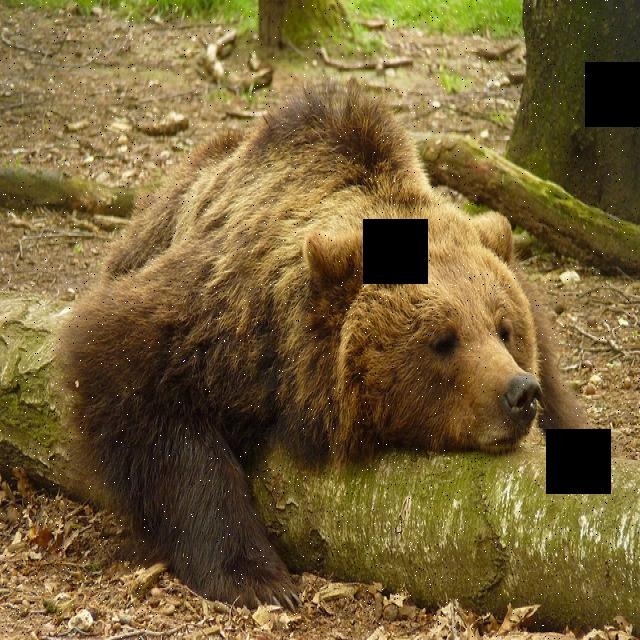Bear: (55, 71, 615, 588)
